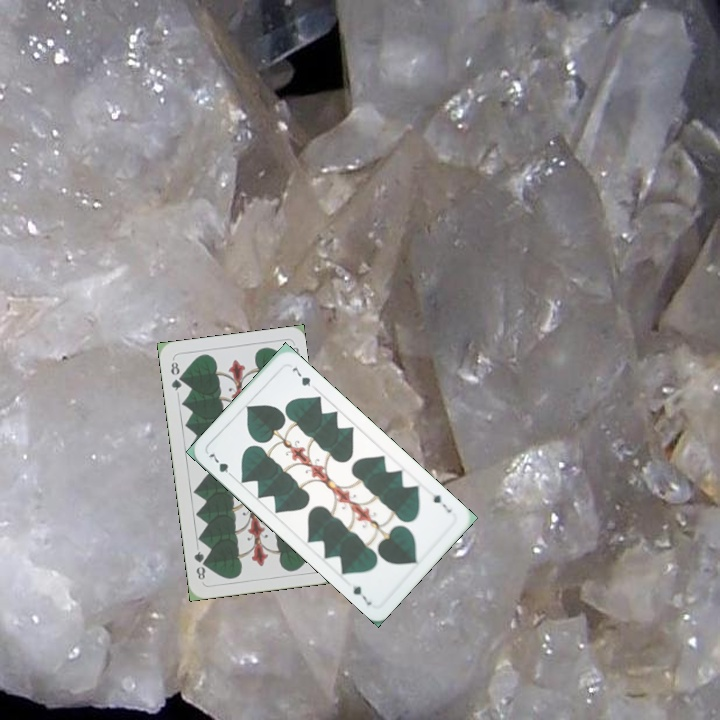G7: (205, 449, 237, 481), (426, 487, 454, 516)
G8: (167, 358, 185, 393)
